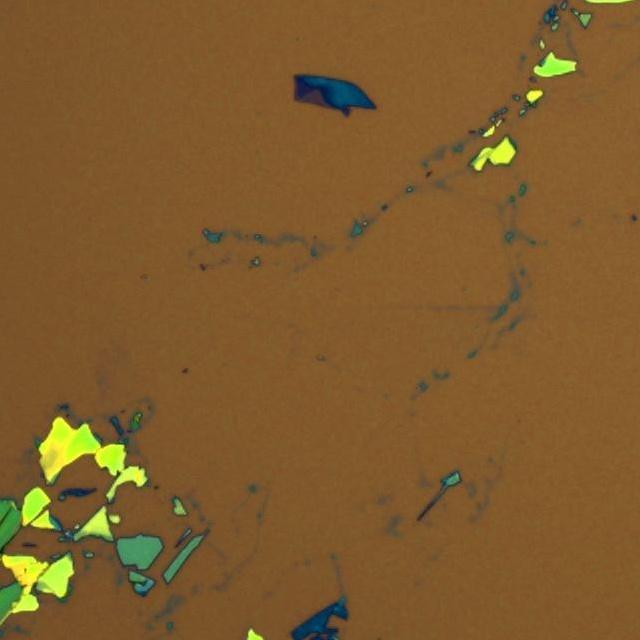monolayer-eWW4: (304, 89, 325, 105)
